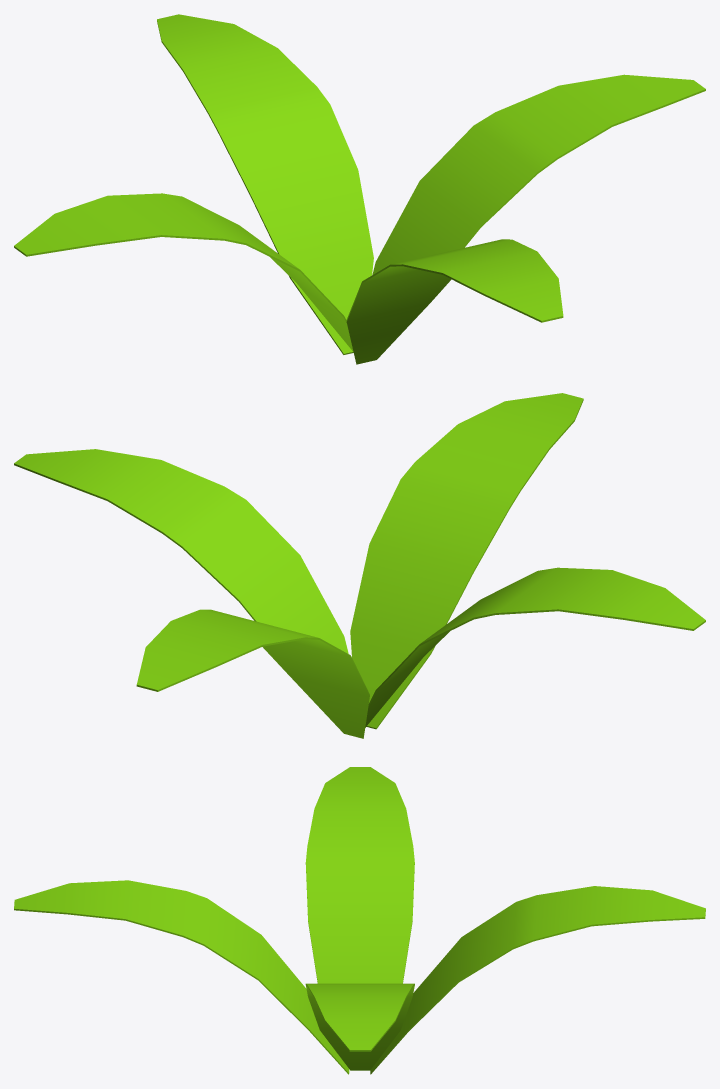
The model's file is Grass004.fbx.
The picture shows the model from 3 angles, top to bottom: view 1: azimuth 30°, elevation 25°; view 2: azimuth 150°, elevation 25°; view 3: azimuth 270°, elevation 25°; orthographic projection. The views are drawn at different scales.
Visible parts, largest first — view 1: Plane.004; view 2: Plane.004; view 3: Plane.004.
Boxes of the visible parts, x1,y1,x2,y2 form: Plane.004: (14,14,705,364); Plane.004: (14,393,705,738); Plane.004: (14,767,705,1074).
Bounding box in the file's own units: 77.42 × 21.57 × 80.04.
1 material, 1 textured.
